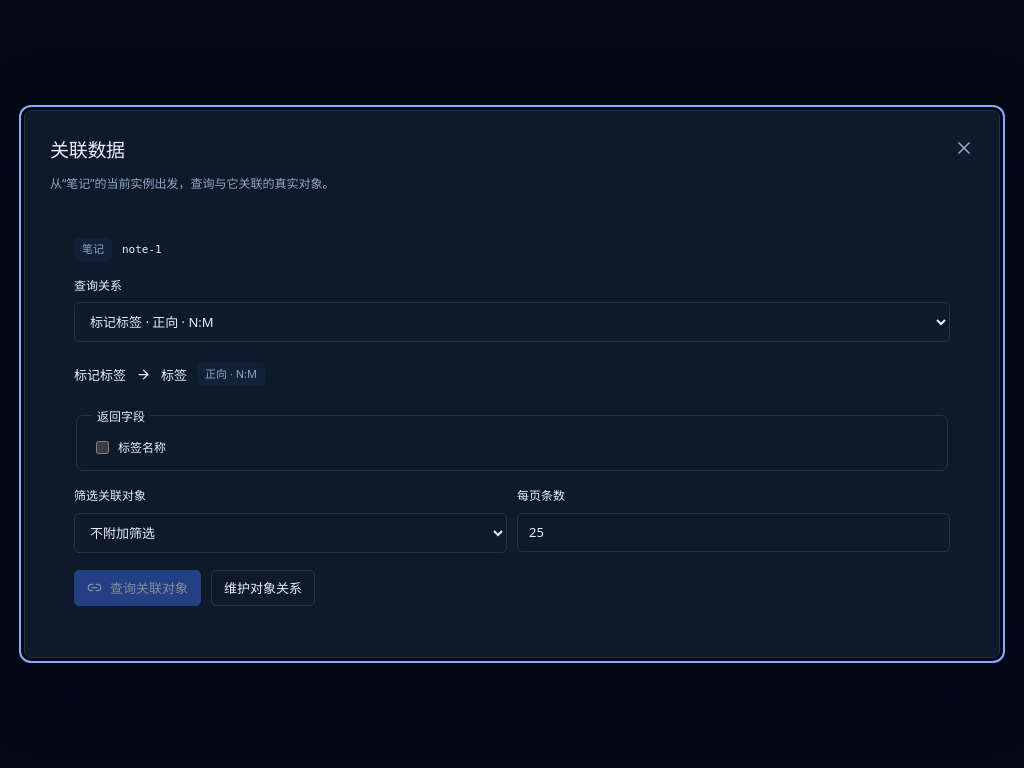
Test: 真实关联数据界面 › 取消请求并忽略迟到结果，授权拒绝清空已经读取的数据
Click the checkbox named "关联字段：标签名称". click: {"x": 102, "y": 447}
box: [96,441,109,454]
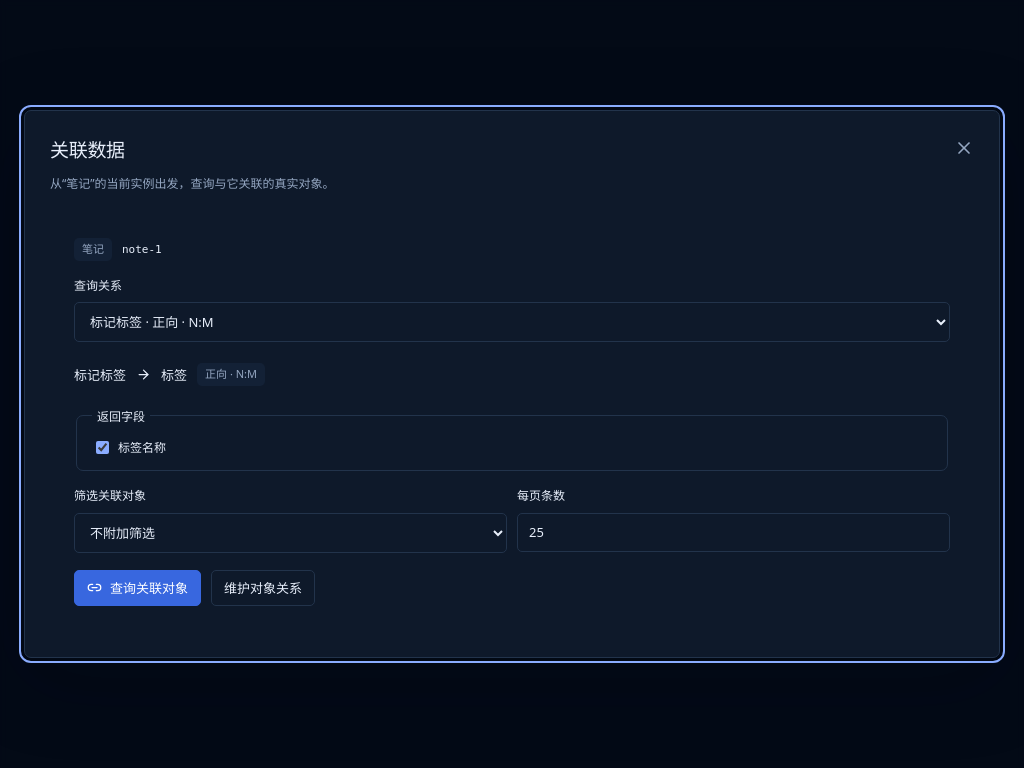
Click the button "查询关联对象". click: {"x": 138, "y": 588}
box: [74,570,201,606]
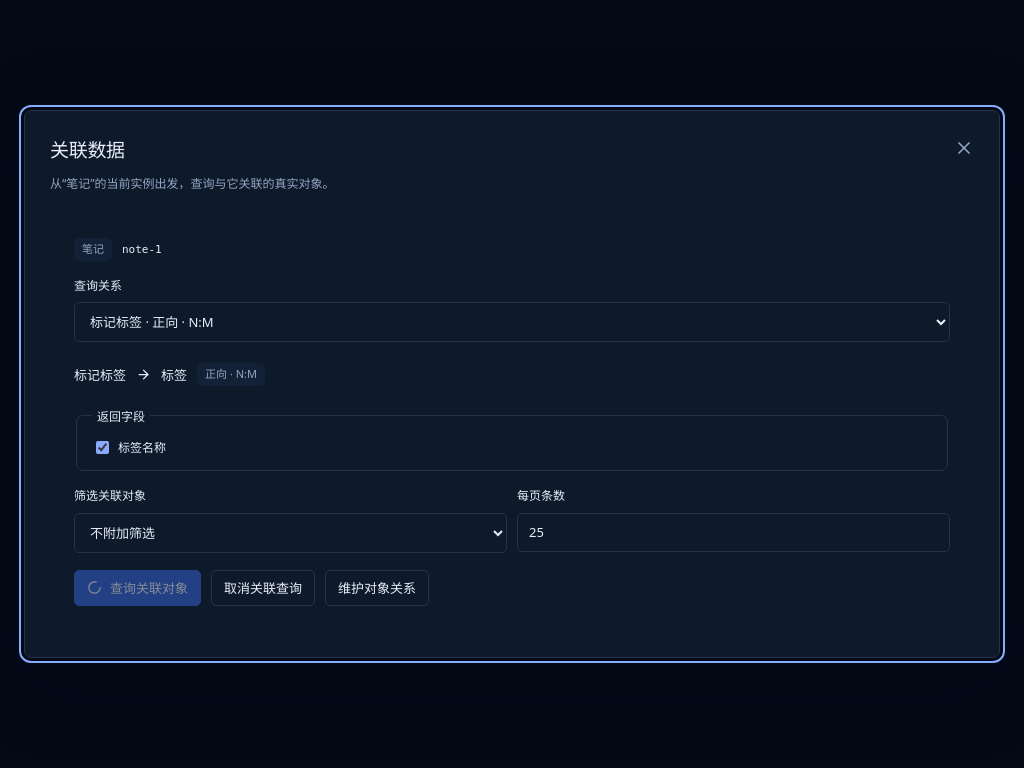
Click the button "取消关联查询". click: {"x": 263, "y": 588}
box: [211,570,315,606]
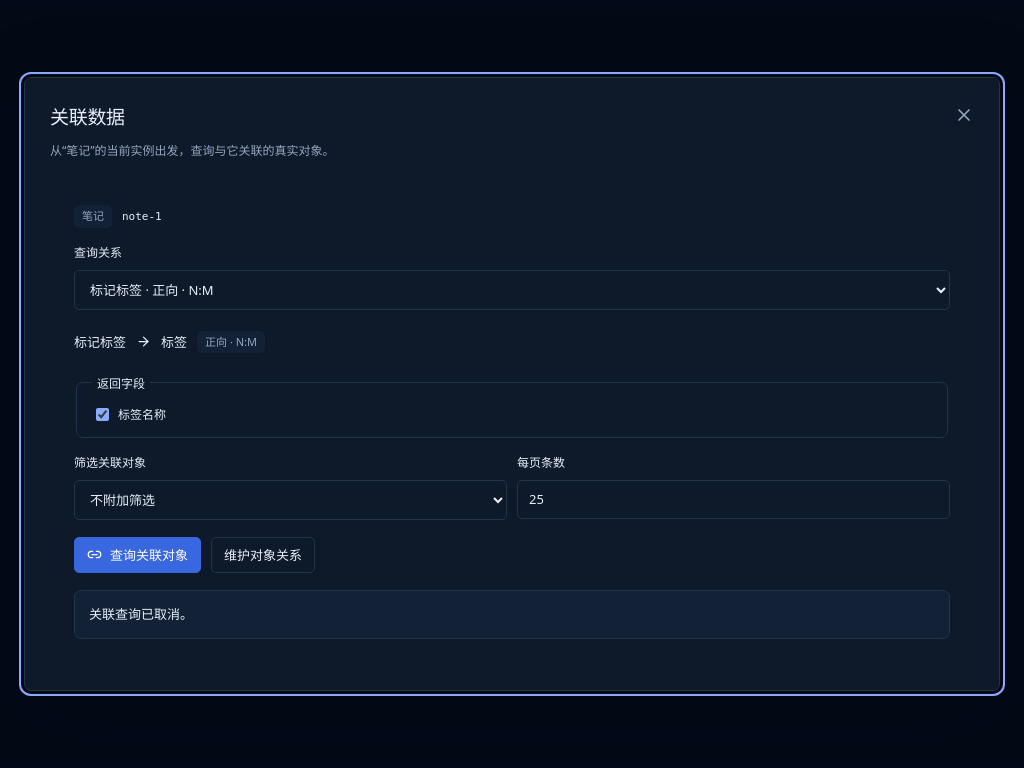
Expected: the text "知识图谱" is not shown
Click the button "查询关联对象". click: {"x": 138, "y": 555}
box: [74,537,201,573]
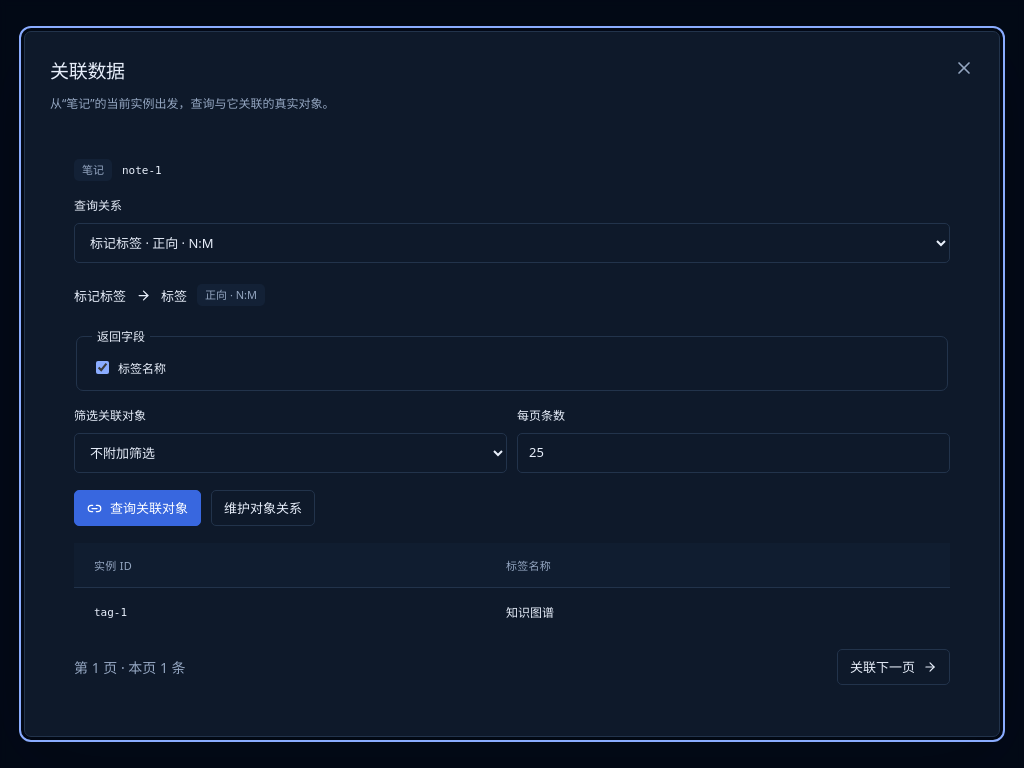
Expected: the text "知识图谱" is shown, [486,588,950,636]
Click the button "关联下一页". click: {"x": 894, "y": 667}
box: [837,649,950,685]
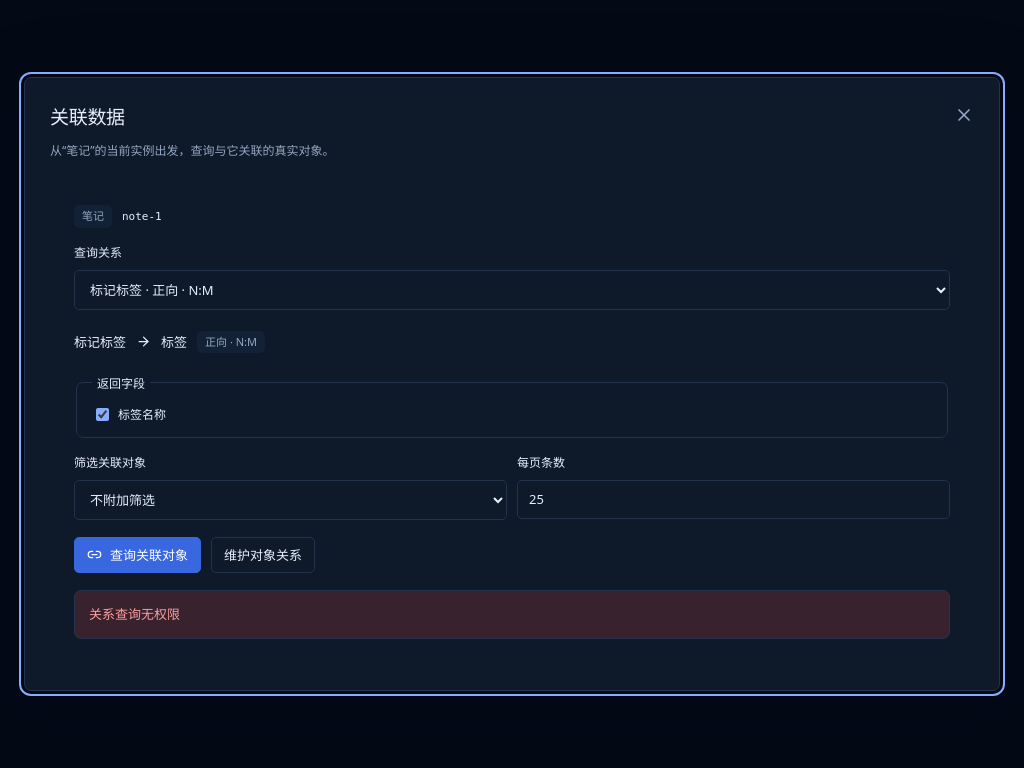
Expected: the text "关系查询无权限" is shown, [74,590,950,639]
Expected: the text "知识图谱" is gone
